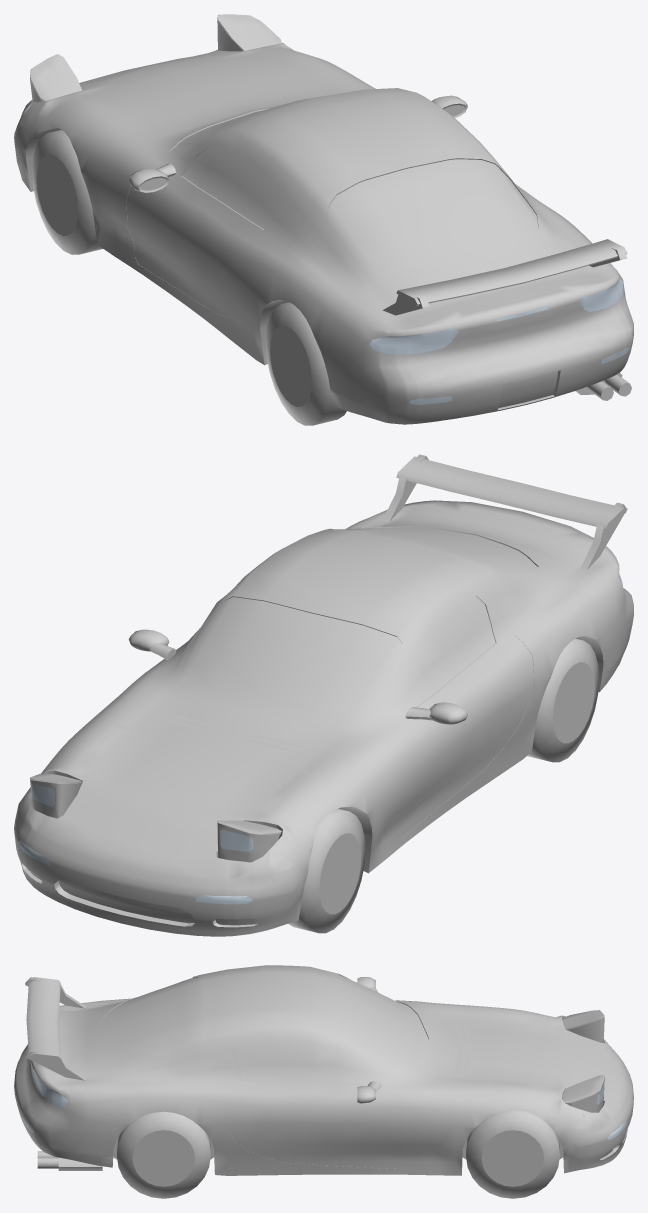
3 views of the same model, one above another, from view 1: azimuth 30°, elevation 25°; view 2: azimuth 150°, elevation 25°; view 3: azimuth 270°, elevation 25° (orthographic). The views are drawn at different scales.
Visible parts, largest first — view 1: Body, Wheel_RL, Wheel_FL, LensCover_Tail_L, LensCover_Tail_R; view 2: Body, Wheel_FL, Wheel_RL; view 3: Body, Wheel_FR, Wheel_RR, LensCover_Tail_R.
Boxes of the visible parts, box(x1,y1,x2,y2) form: Body: box(14, 14, 633, 424); Wheel_RL: box(265, 302, 346, 425); Wheel_FL: box(32, 130, 102, 254); LensCover_Tail_L: box(369, 328, 459, 354); LensCover_Tail_R: box(580, 279, 623, 311); Body: box(14, 454, 633, 936); Wheel_FL: box(288, 808, 365, 933); Wheel_RL: box(527, 638, 599, 762); Body: box(14, 965, 633, 1175); Wheel_FR: box(466, 1110, 559, 1198); Wheel_RR: box(117, 1111, 210, 1198); LensCover_Tail_R: box(33, 1069, 68, 1106).
Size of the model in its own units: 2.03 by 1.24 by 4.37.
